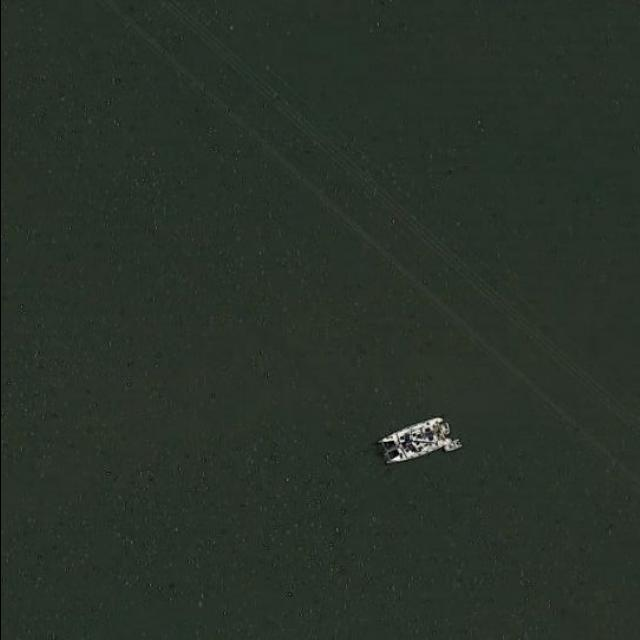ship: (376, 413, 454, 465)
